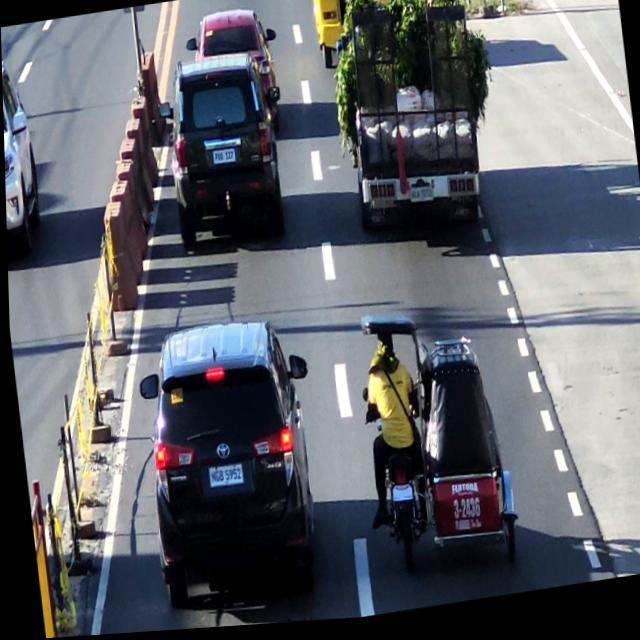Car: (133, 318, 327, 616), (156, 59, 284, 250), (182, 4, 274, 75)
License-Plate: (203, 460, 242, 495), (206, 144, 239, 172), (386, 484, 412, 511), (406, 188, 435, 211)
Tricycle: (351, 303, 518, 590)
Truck: (328, 0, 491, 239)
